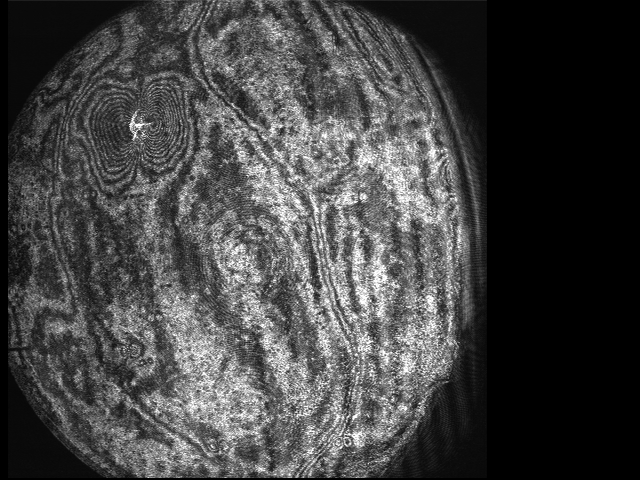plume: (89, 82, 189, 182)
